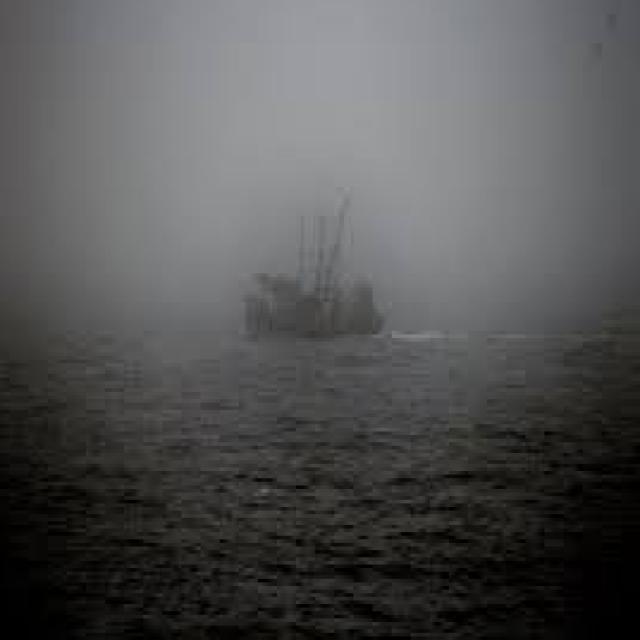fishing boat: (241, 188, 378, 340)
